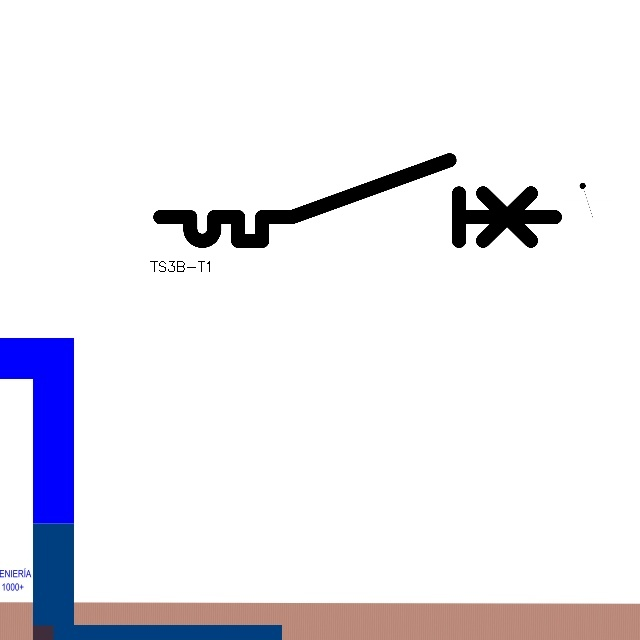interruptor_termomagnetico: (150, 150, 565, 251)
